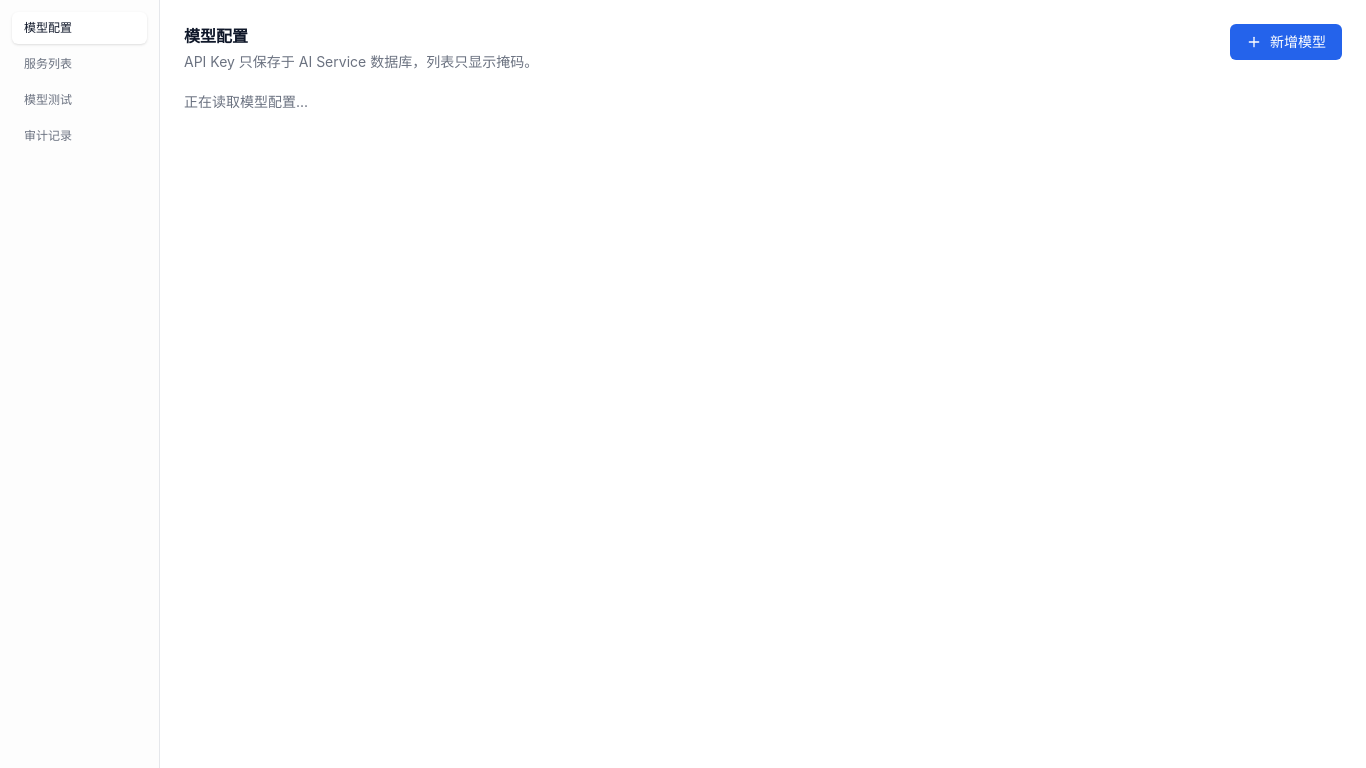
Scenario: AI Service 内置应用 › 获取模型列表后直接展示完整列表，不受已有模型名称过滤
Click the button "新增模型". click: (1286,42)
box: x1=1230 y1=24 x2=1342 y2=60
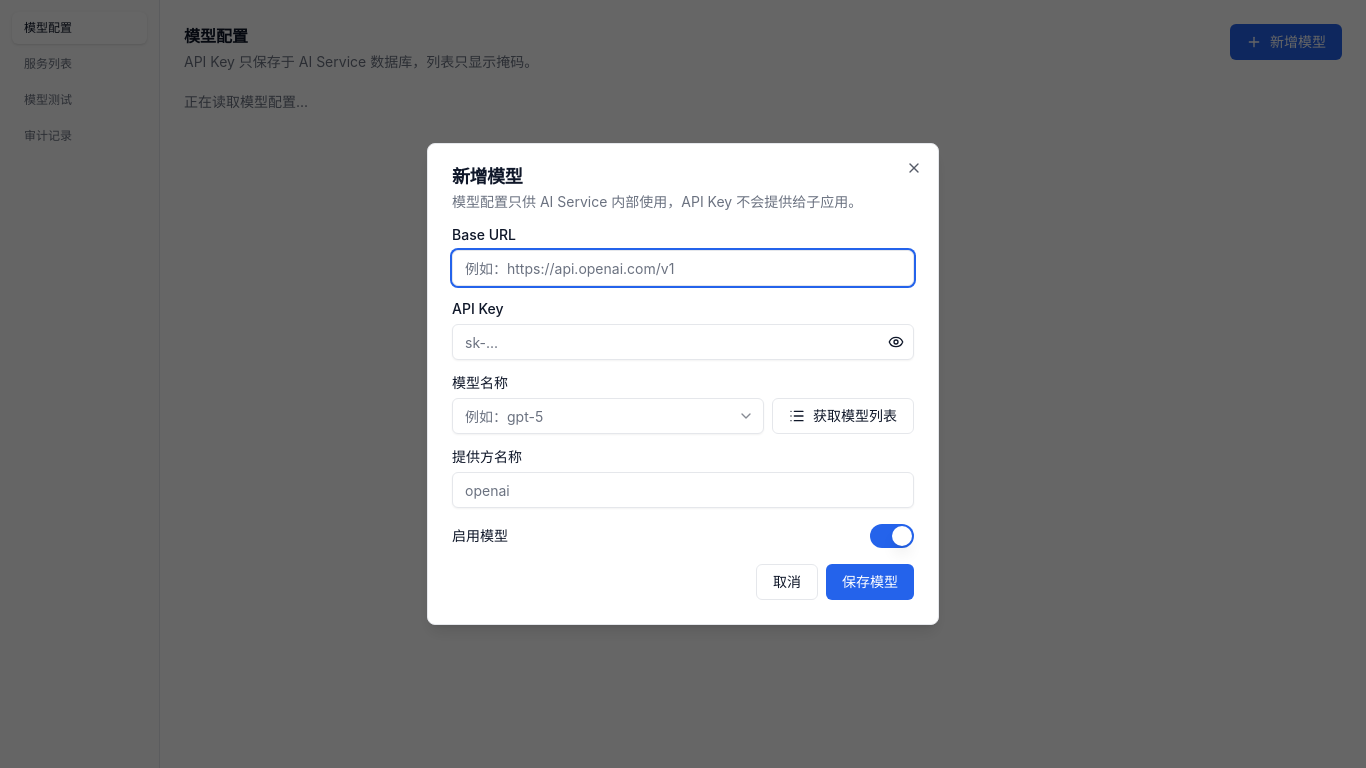
Type "https://api.example.com/v1" into the field labelled "Base URL". click: (683,268)
box: x1=452 y1=250 x2=914 y2=286
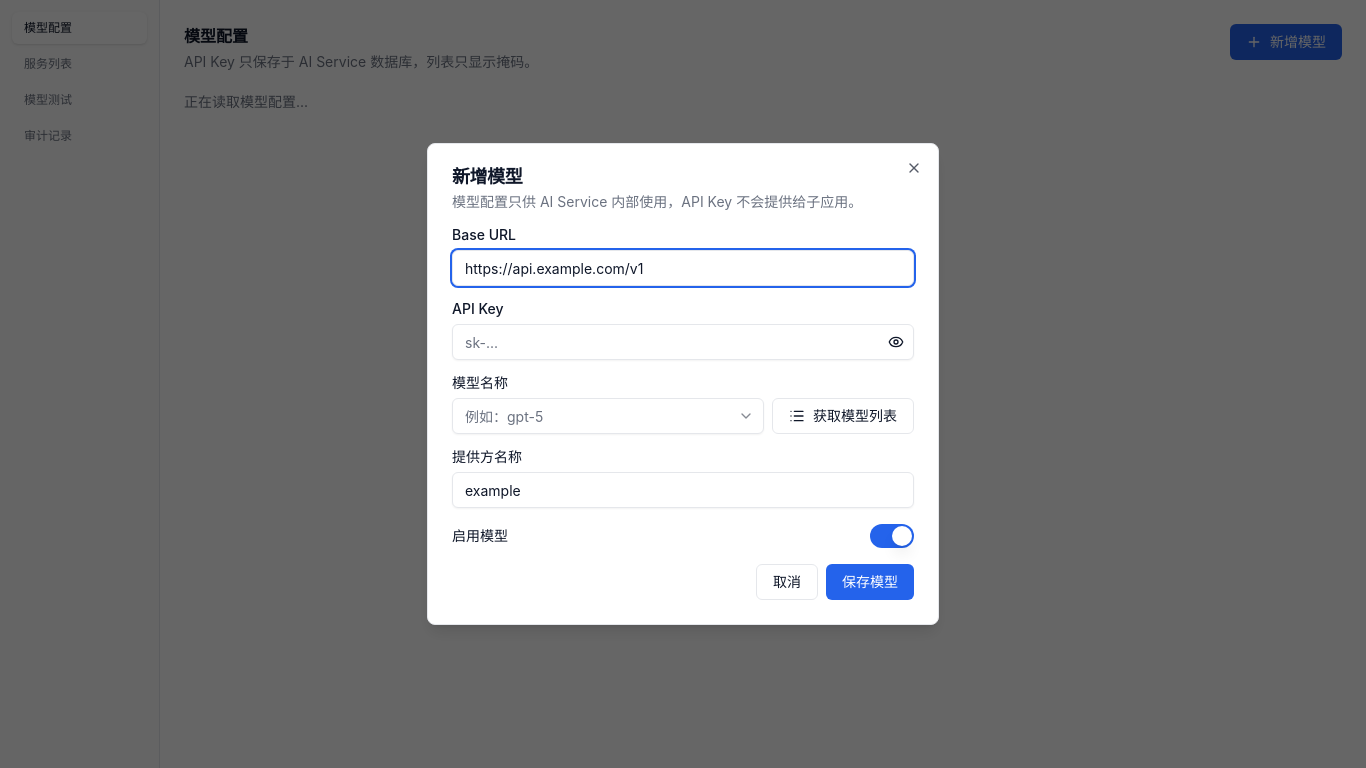
Type "sk-test" into the password field labelled "API Key". click: (683,342)
box: x1=452 y1=324 x2=914 y2=360
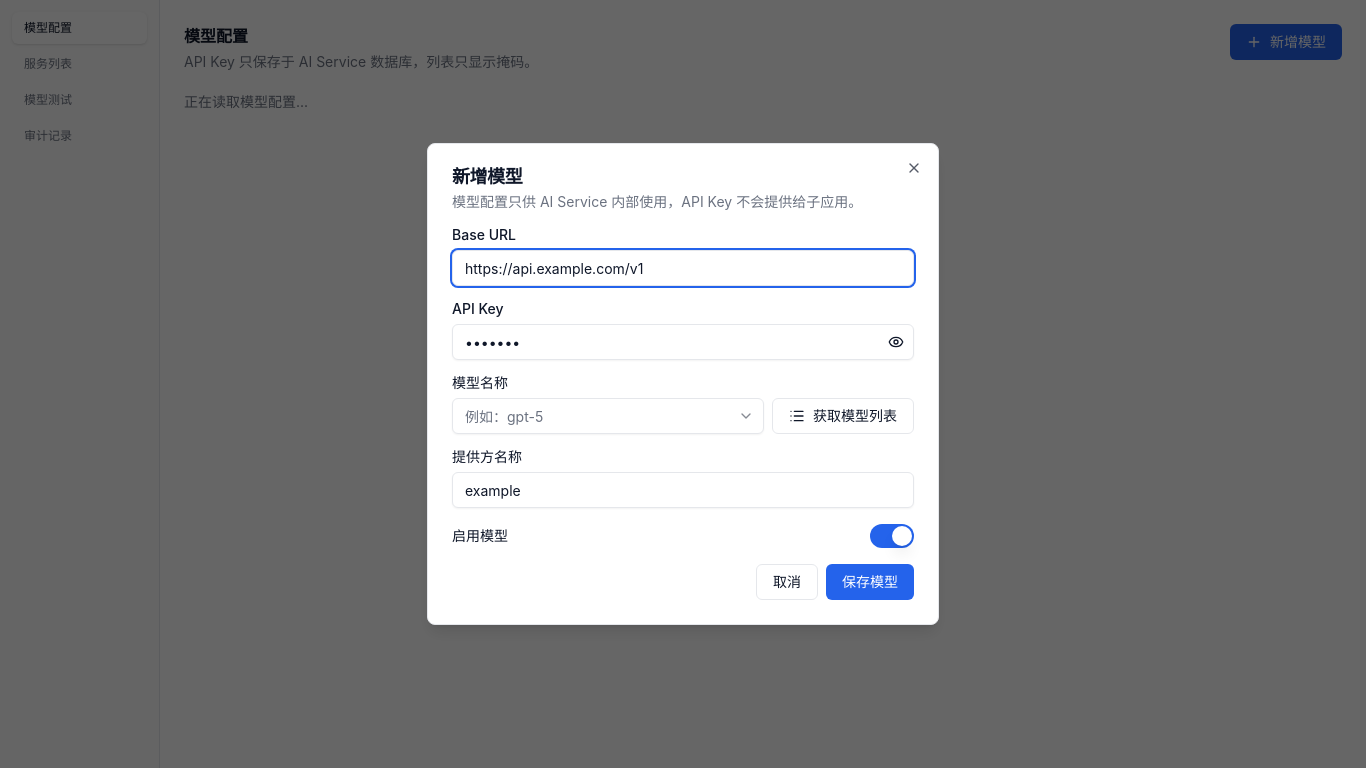
Type "团队指定模型" into the dropdown labelled "模型名称". click: (608,416)
box: x1=452 y1=398 x2=764 y2=434
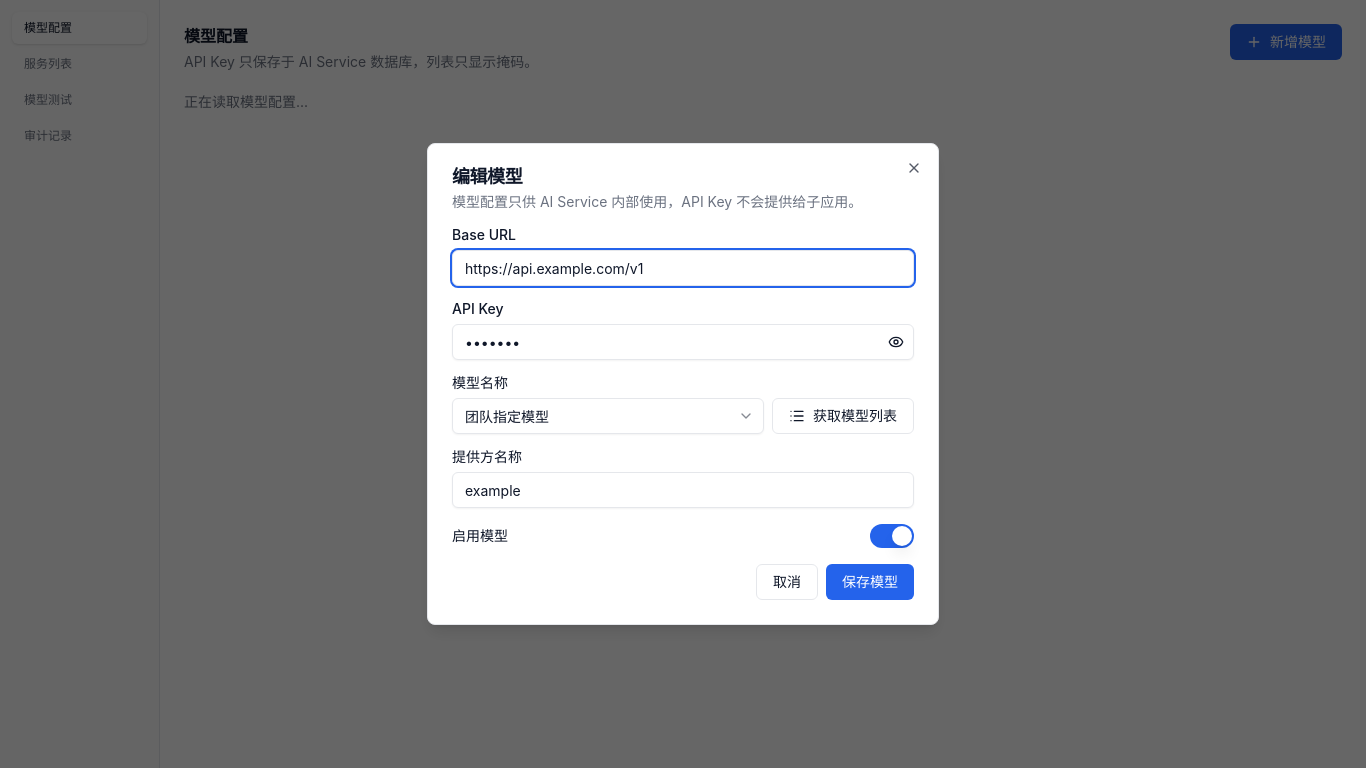
Click the button "获取模型列表". click: (843,416)
box: x1=772 y1=398 x2=914 y2=434
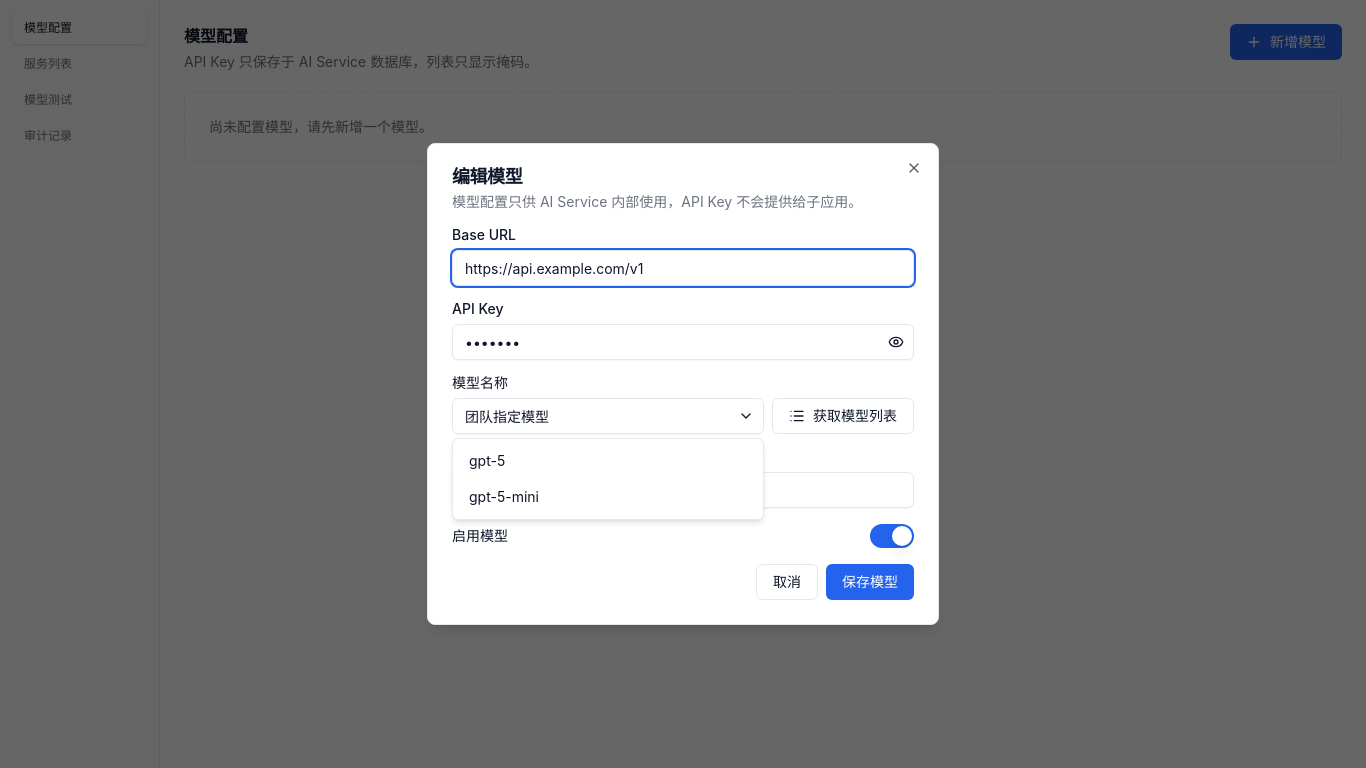
Result: the option "gpt-5" is shown at x1=457 y1=443 x2=759 y2=479
Result: the option "gpt-5-mini" is shown at x1=457 y1=479 x2=759 y2=515
